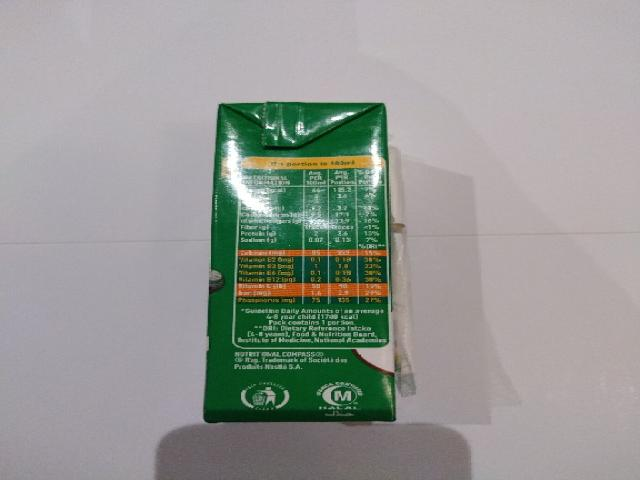drink_box: (198, 100, 413, 424)
